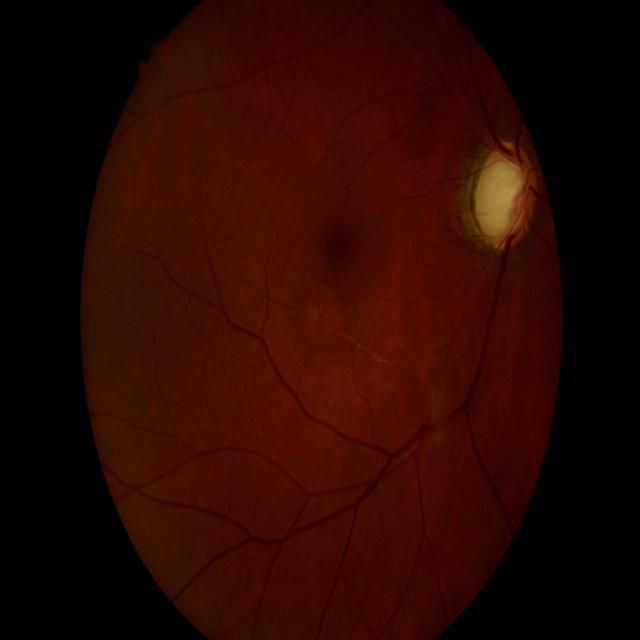cup: (480, 153, 528, 241)
disk: (476, 142, 538, 250)
